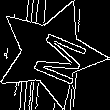M_NW: (18, 22, 84, 85)
